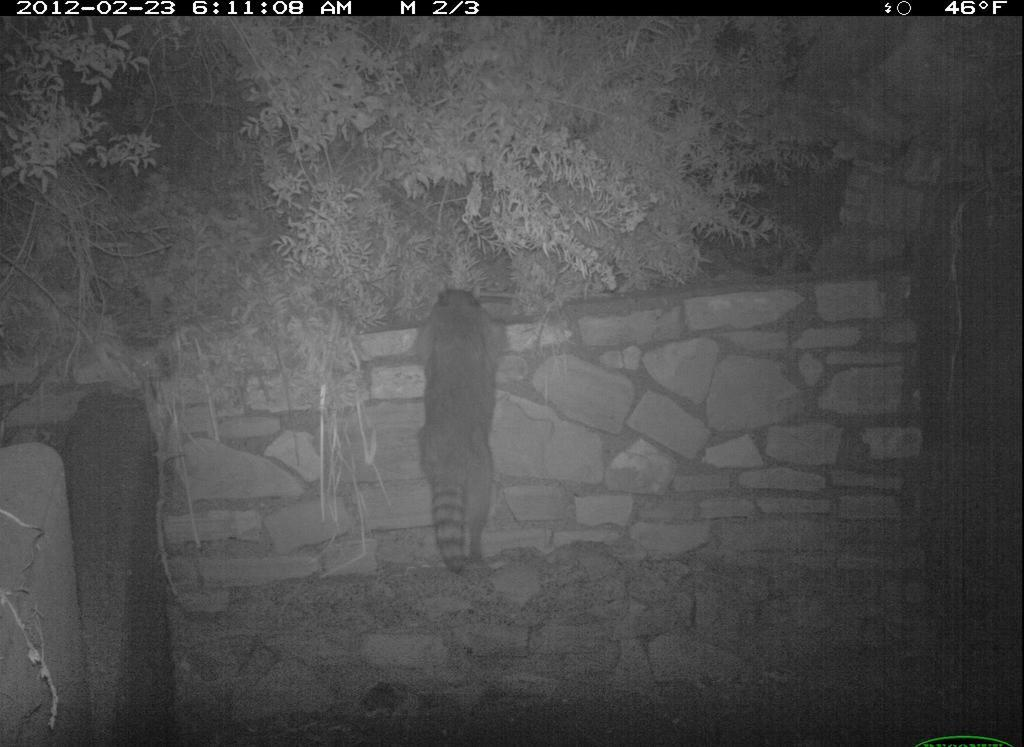raccoon: (405, 273, 509, 589)
